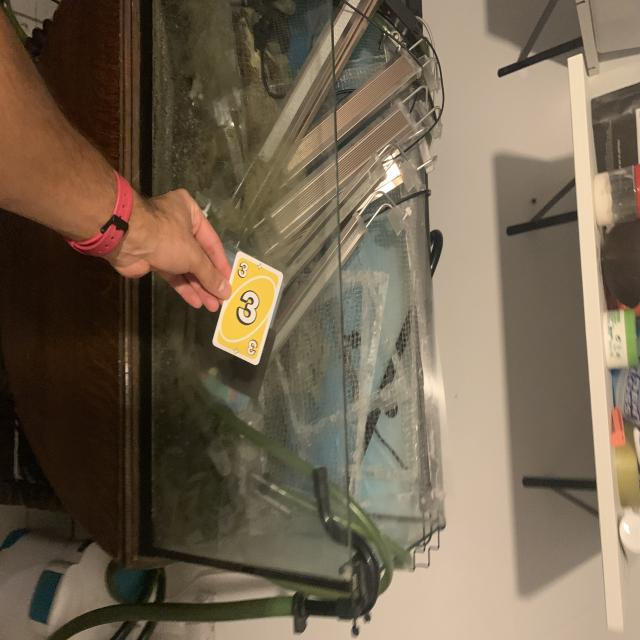lyellow-3: (235, 259, 251, 282)
